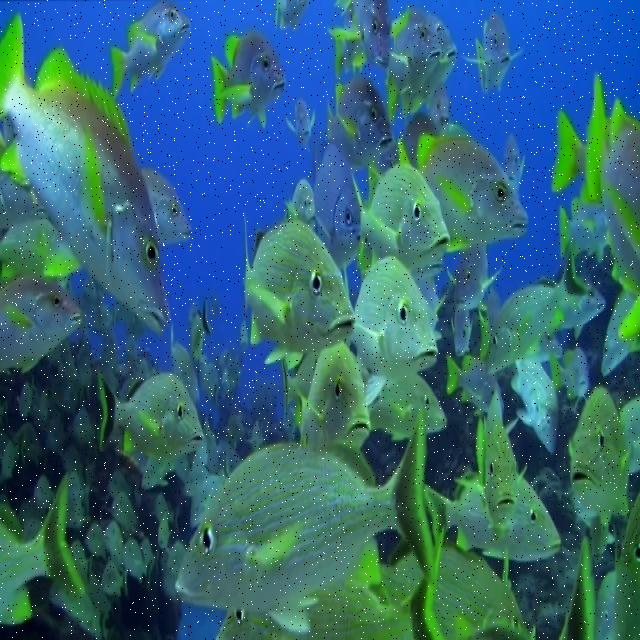fish: (174, 407, 436, 632), (0, 12, 169, 331), (214, 537, 446, 639), (552, 71, 639, 296), (243, 213, 356, 368), (487, 242, 594, 374), (2, 471, 88, 632), (384, 542, 528, 638), (417, 126, 528, 249), (423, 472, 560, 561), (349, 259, 441, 375), (350, 164, 450, 261), (97, 373, 204, 460), (283, 347, 370, 447), (568, 386, 634, 514), (0, 275, 84, 375), (110, 2, 191, 98), (210, 32, 285, 129), (313, 139, 361, 272), (360, 370, 448, 442), (386, 8, 441, 123), (324, 77, 392, 164), (483, 391, 526, 526), (403, 11, 457, 117), (0, 211, 82, 278), (460, 13, 527, 94), (139, 166, 191, 245), (330, 0, 391, 64), (444, 244, 503, 308), (446, 355, 504, 415), (285, 97, 317, 146), (287, 177, 316, 230), (503, 131, 525, 197), (335, 38, 369, 79), (275, 0, 309, 32), (451, 305, 472, 355), (427, 86, 449, 132)
